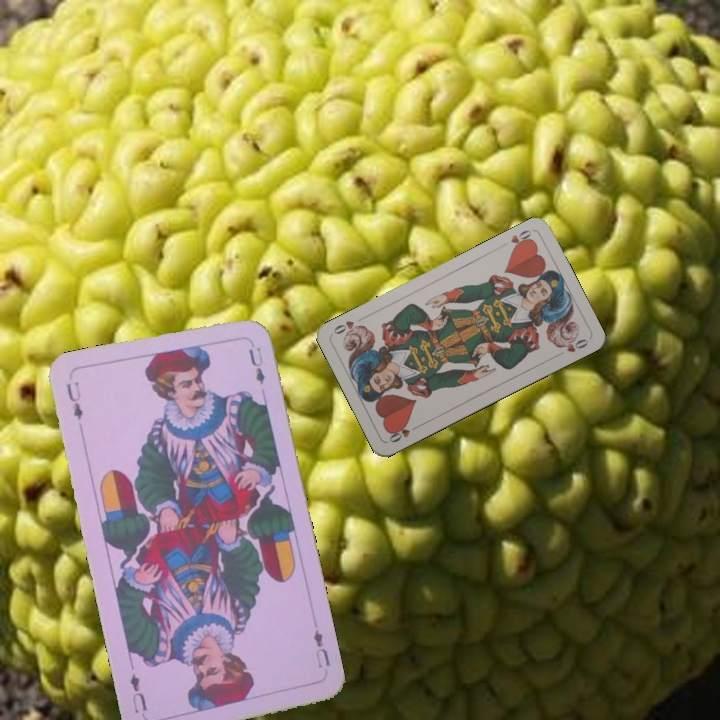EU: (309, 625, 333, 671), (62, 377, 86, 422)
HO: (497, 226, 535, 253), (385, 420, 423, 445)
